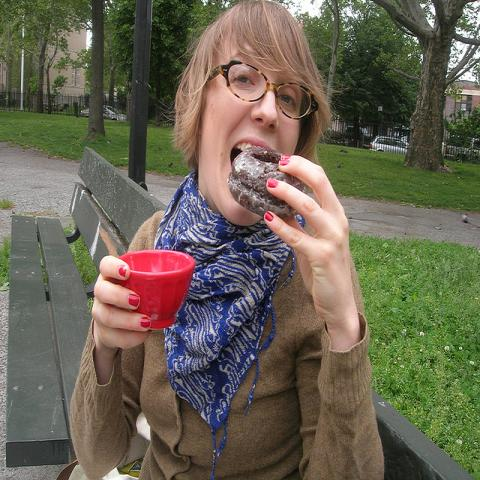car: (444, 134, 479, 165), (80, 104, 128, 121), (370, 136, 408, 155), (346, 125, 372, 144)
